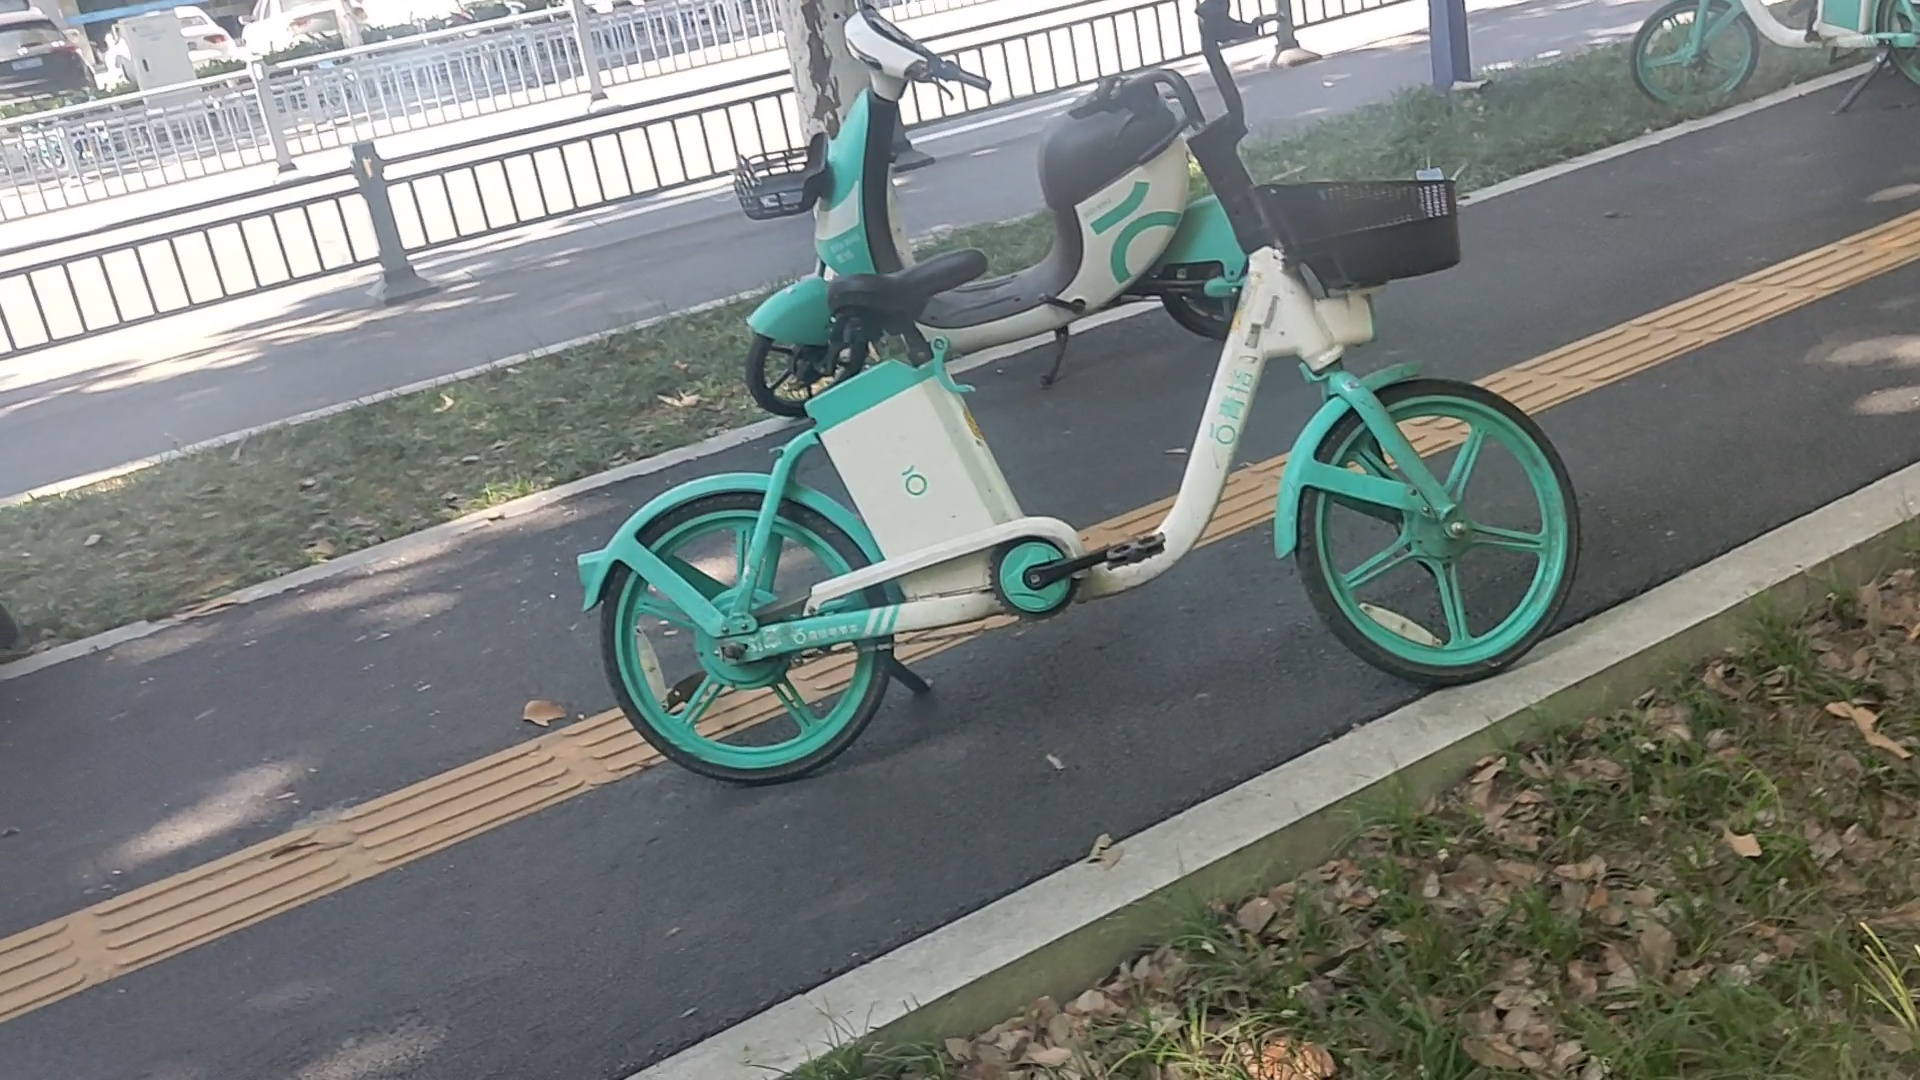non-vehicle: (607, 1, 1573, 789), (724, 4, 1273, 406), (1629, 1, 1920, 109)
